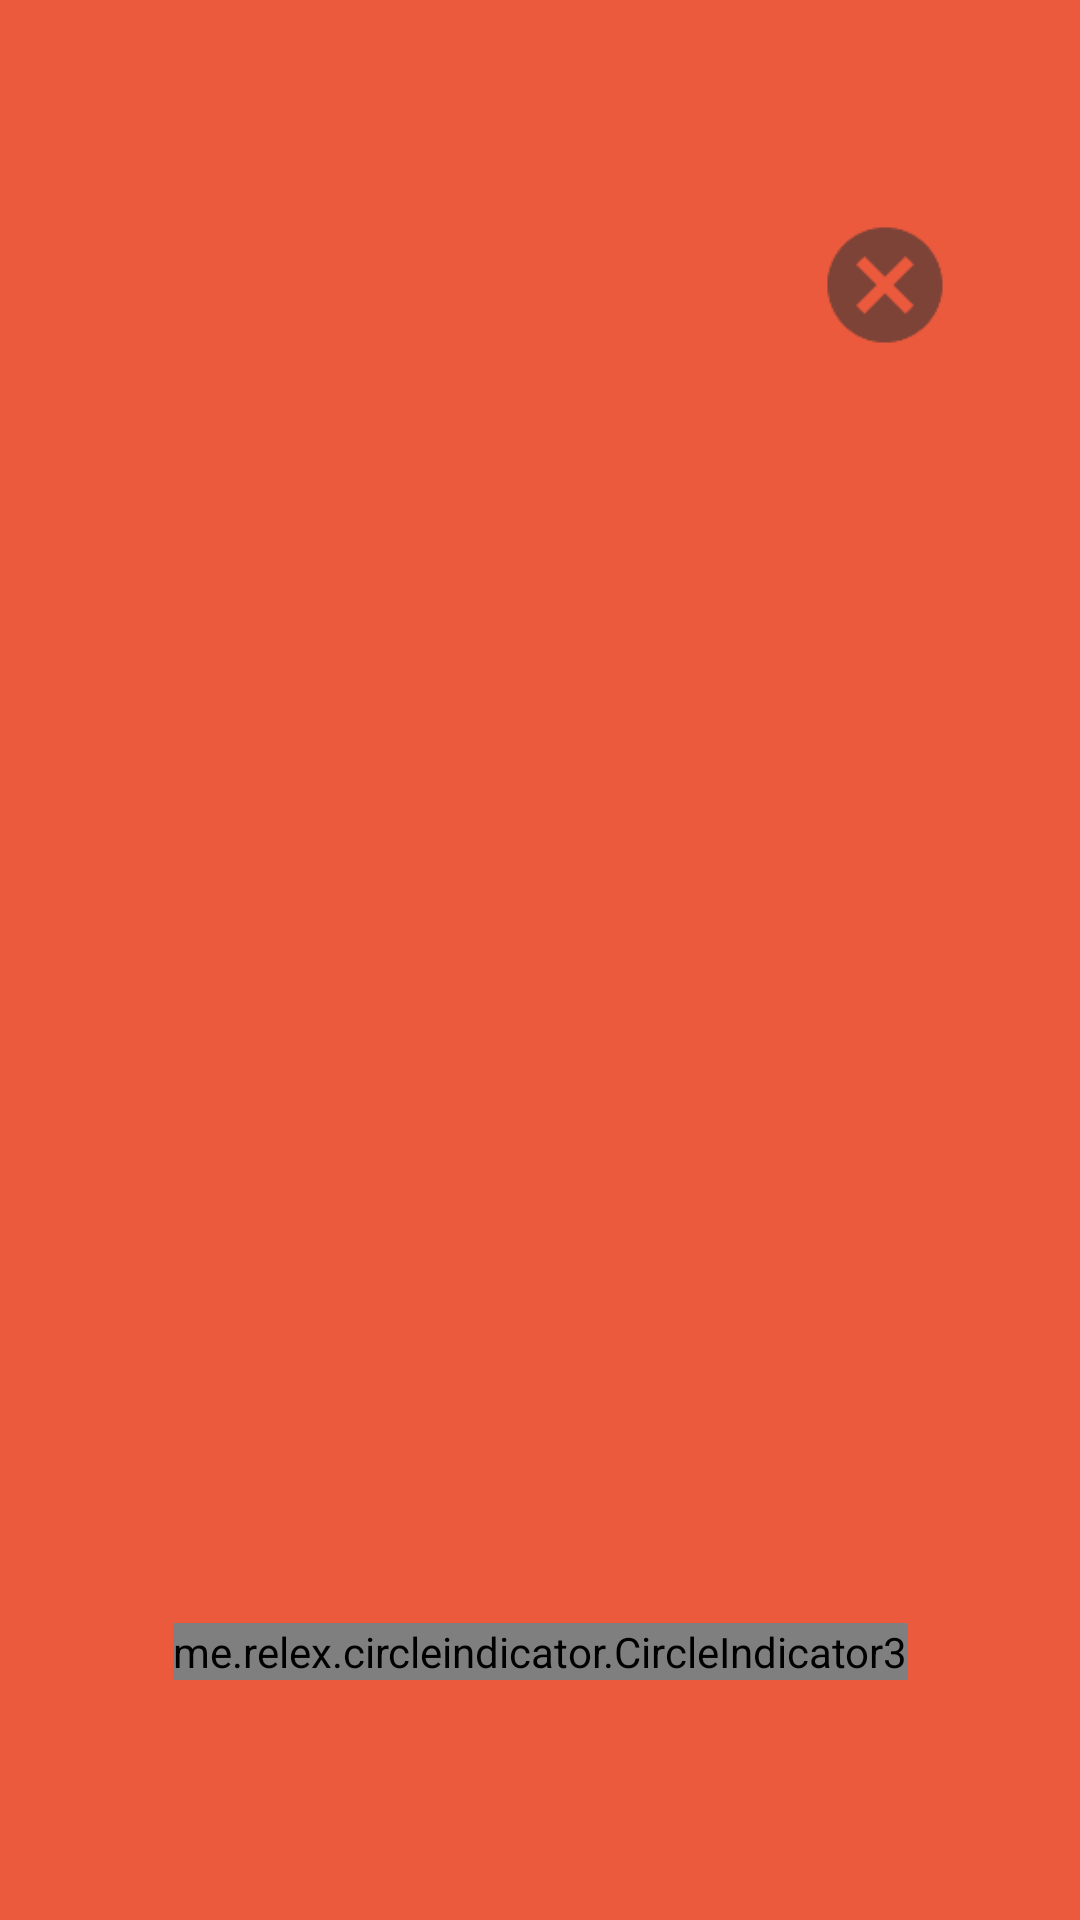

Where icons sit on this 1080w x 1920h app screen, as (x1, y1, x2, y2):
info close: (827, 227, 943, 343)
